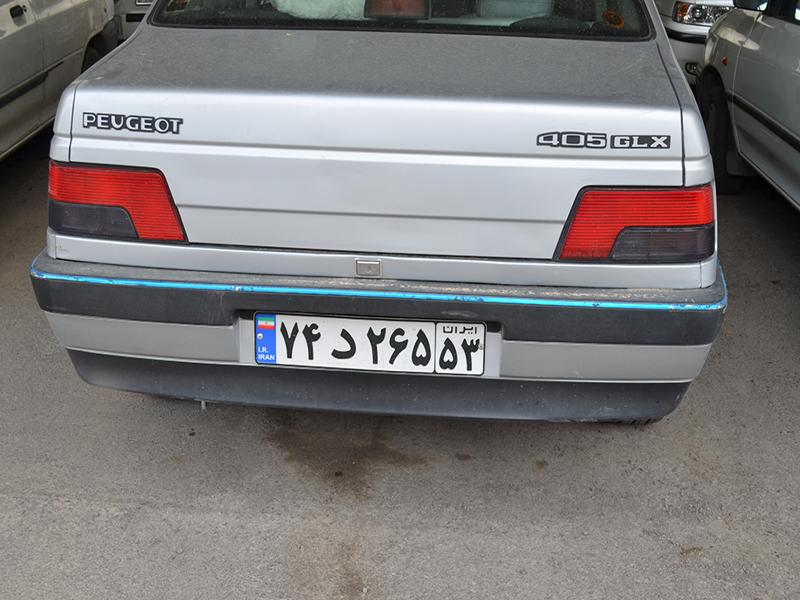Plate: (236, 301, 494, 382)
